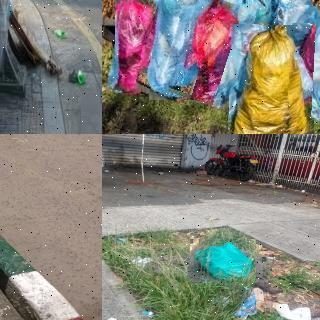Garbage: (228, 24, 315, 134), (174, 0, 250, 107), (141, 0, 213, 102), (111, 0, 160, 94), (288, 6, 320, 119), (188, 237, 258, 286), (270, 0, 320, 56), (211, 0, 275, 43)
